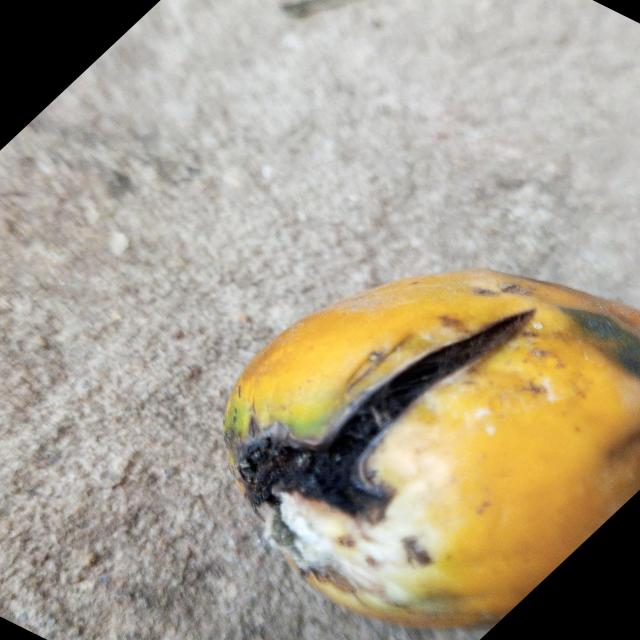damaged: (224, 270, 640, 627)
